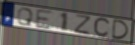1: (59, 12, 70, 33)
C: (92, 16, 112, 38)
D: (112, 19, 130, 41)
E: (34, 9, 55, 31)
Q: (16, 8, 34, 27)
Z: (74, 14, 92, 37)
